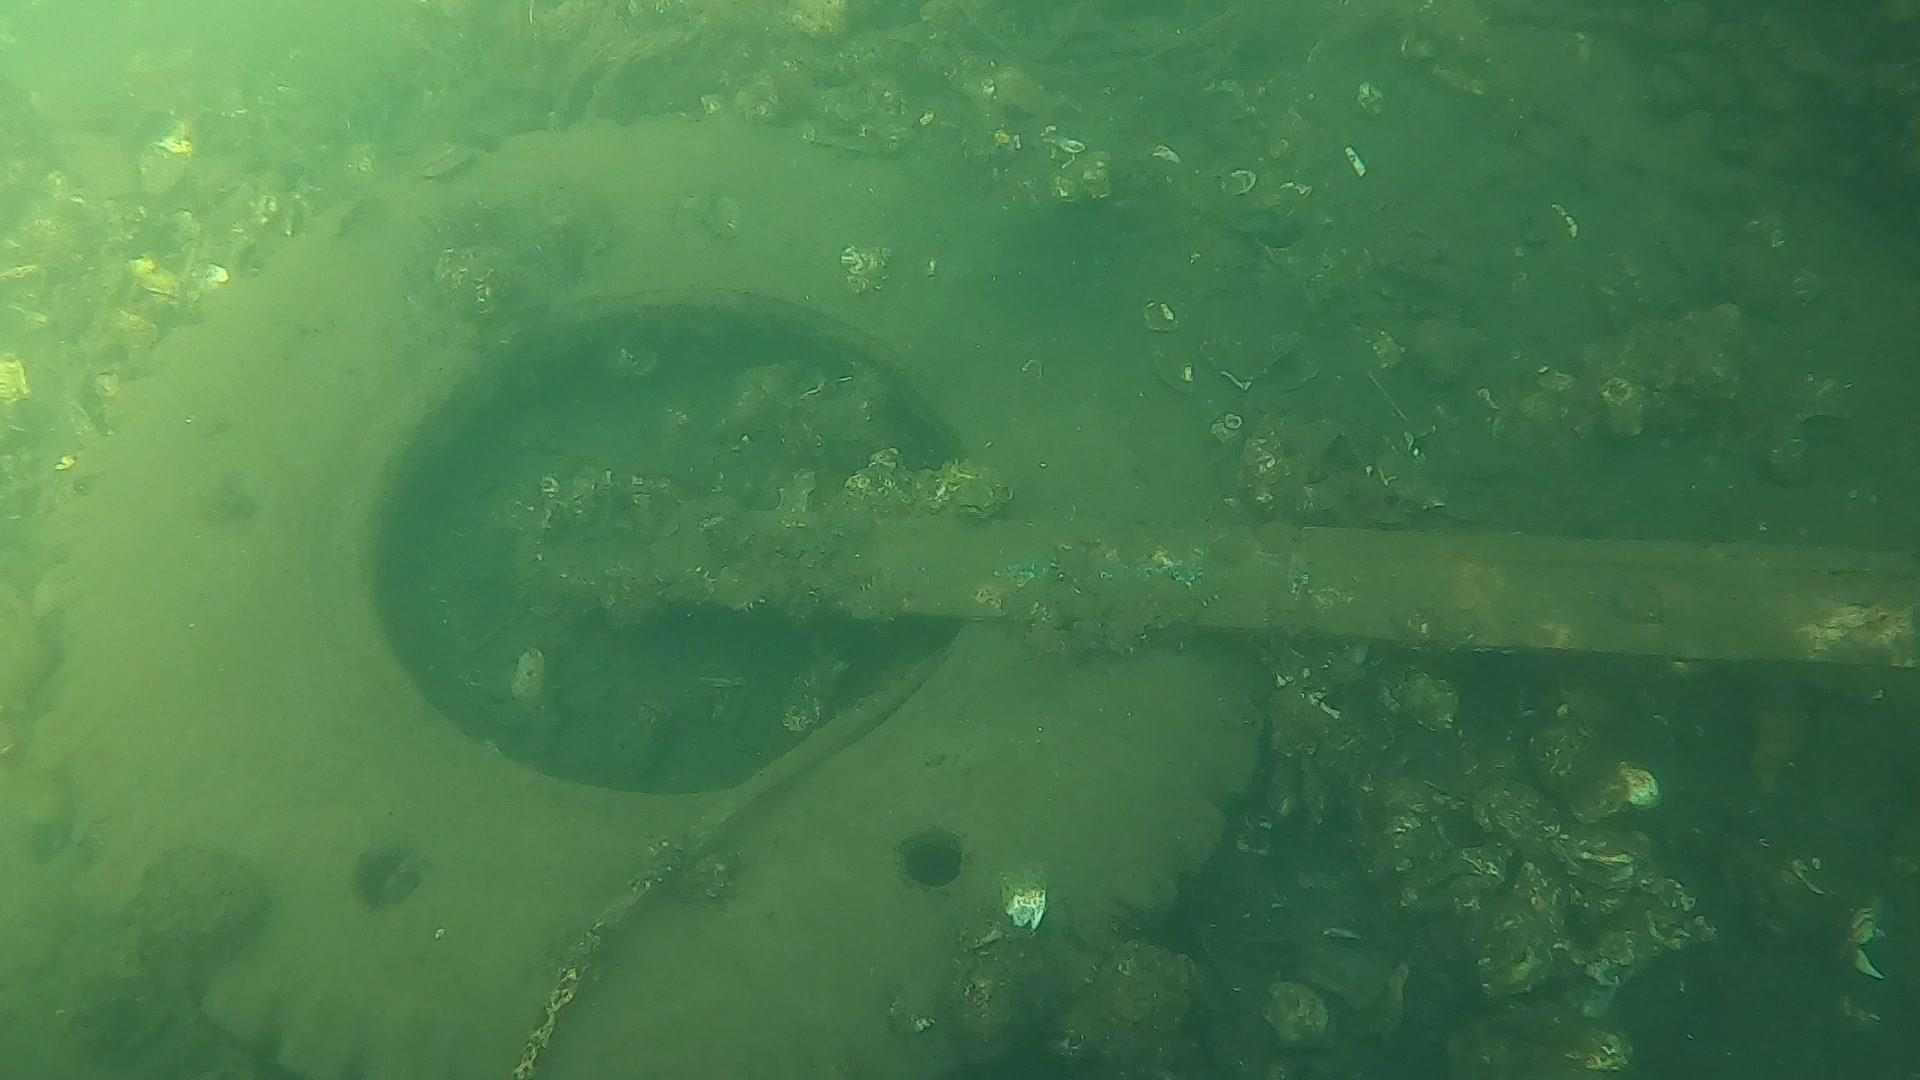tire: (73, 109, 1265, 1080)
wood: (967, 508, 1920, 671)
